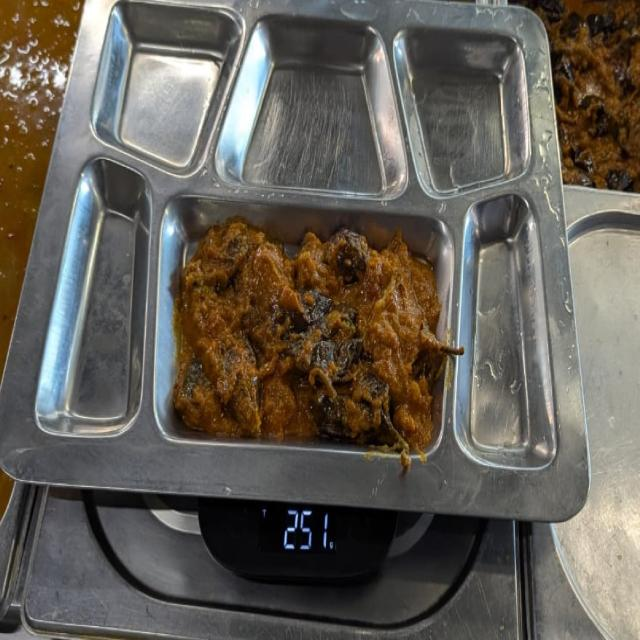Baigan Sabji: (165, 205, 448, 461)
